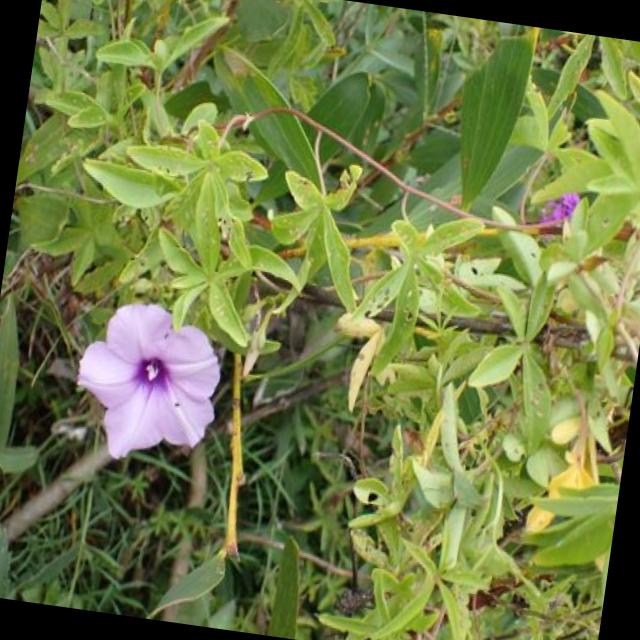ipomoea: (62, 290, 234, 478)
